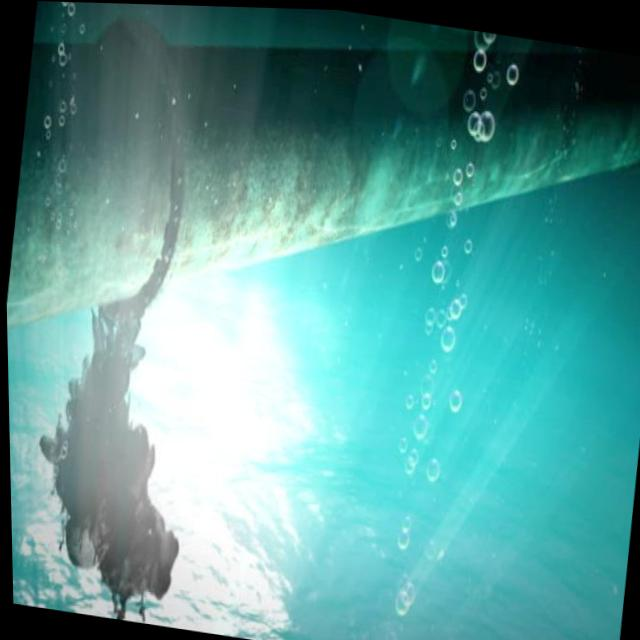leak: (40, 173, 182, 621)
